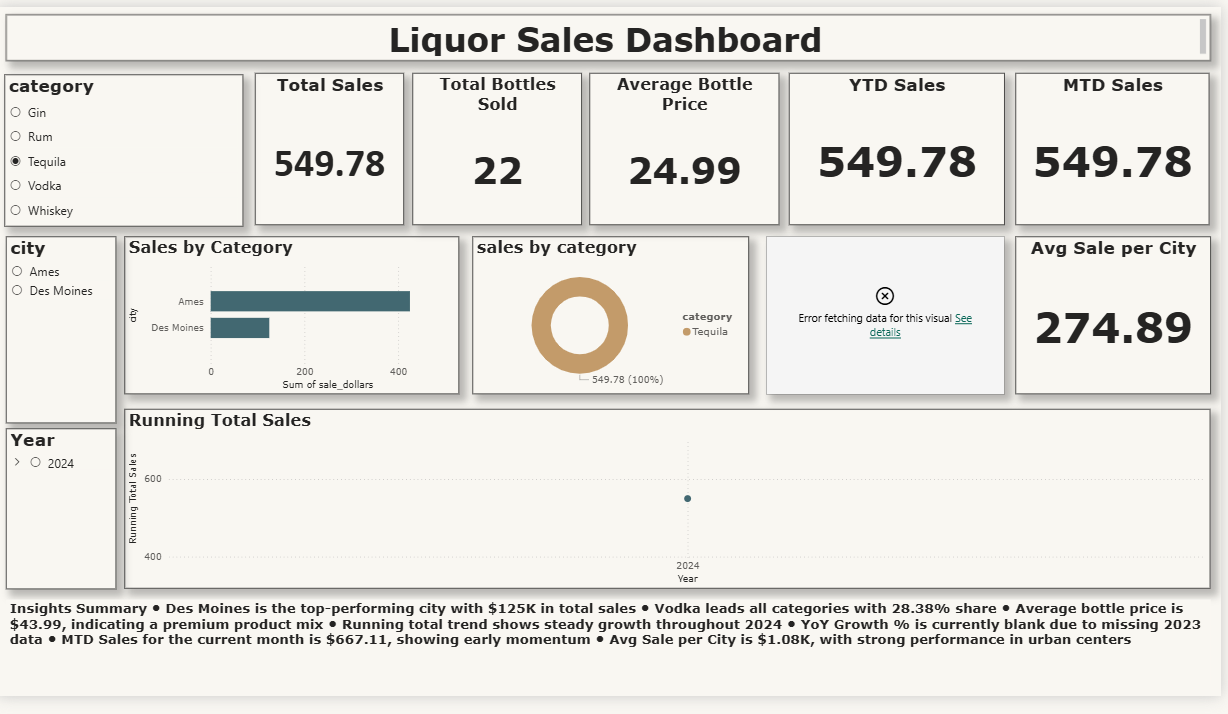

This screenshot's page, from the dashboard's own definition file:
{"tool":"powerbi","page":{"name":"Page 1","canvas":[1600,900],"ordinal":0},"visuals":[{"type":"card","title":"Total Sales","fields":{"Values":["Sum(public liquor_sales.sale_dollars)"]},"box":[336.9,87.1,195,198.7],"z":0},{"type":"clusteredBarChart","title":"Sales by Category","fields":{"Category":["public liquor_sales.city"],"Y":["Sum(public liquor_sales.sale_dollars)"]},"box":[166.6,300.9,437.2,206.3],"z":1000},{"type":"listSlicer","fields":{"Values":["public liquor_sales.category"]},"box":[10.6,87.8,311.9,198.4],"z":2000},{"type":"donutChart","title":"sales by category","fields":{"Category":["public liquor_sales.category"],"Y":["public liquor_sales.Total_sales"]},"box":[620.8,300.9,361.5,206.3],"z":3000},{"type":"lineChart","title":" Running Total Sales","fields":{"Category":["public liquor_sales.date.Variation.Date Hierarchy.Year","public liquor_sales.date.Variation.Date Hierarchy.Quarter","public liquor_sales.date.Variation.Date Hierarchy.Month","public liquor_sales.date.Variation.Date Hierarchy.Day"],"Y":["public liquor_sales.Running Total Sales"]},"box":[166.6,526.2,1419.6,234.7],"z":4000},{"type":"textbox","box":[11.4,9.5,1574.8,60.6],"z":5000},{"type":"card","title":" Total Bottles Sold","fields":{"Values":["public liquor_sales.Total Bottle Sold"]},"box":[543.2,87.1,221.5,198.7],"z":6000},{"type":"card","title":"Average Bottle Price","fields":{"Values":["public liquor_sales.Average Bottle Price"]},"box":[774.1,87.1,248,198.7],"z":7000},{"type":"listSlicer","fields":{"Values":["public liquor_sales.city"]},"box":[11.4,299.1,143.8,244.2],"z":8000},{"type":"listSlicer","fields":{"Values":["public liquor_sales.date.Variation.Date Hierarchy.Year","public liquor_sales.date.Variation.Date Hierarchy.Quarter","public liquor_sales.date.Variation.Date Hierarchy.Month","public liquor_sales.date.Variation.Date Hierarchy.Day"]},"box":[11.4,550.8,143.8,210.1],"z":9000},{"type":"card","title":"YTD Sales","fields":{"Values":["public liquor_sales.YTD Sales"]},"box":[1035.3,87.1,282,198.7],"z":10000},{"type":"card","title":"MTD Sales","fields":{"Values":["public liquor_sales.MTD Sales"]},"box":[1330.6,87.1,253.6,198.7],"z":11000},{"type":"card","title":"YoY Growth %","fields":{"Values":["public liquor_sales.YoY Growth %"]},"box":[1005.1,300.9,310.4,206.3],"z":12000},{"type":"card","title":"Avg Sale per City","fields":{"Values":["public liquor_sales.Avg Sale per City"]},"box":[1330.6,300.9,255.5,206.3],"z":13000},{"type":"textbox","title":"Insights Summary •     \tDes Moines is the top-performing city with $125K in total sales • \tVodka leads all categories with 28.38% share • \tAverage bottle price is $43.99, indicating a premium product ","box":[11.4,774.1,1574.8,109.8],"z":13001}]}

Visuals, with their boxes on the page's 1600x900 design canvas (x1, y1, x2, y2). These are canvas units, not pixel positions in the 1228x714 screenshot, which may show the page scaled, cropped or inside an application window:
"Total Sales" card: bbox(337, 87, 532, 286)
"Sales by Category" clusteredBarChart: bbox(167, 301, 604, 507)
listSlicer - public liquor_sales.category: bbox(11, 88, 322, 286)
"sales by category" donutChart: bbox(621, 301, 982, 507)
" Running Total Sales" lineChart: bbox(167, 526, 1586, 761)
textbox: bbox(11, 10, 1586, 70)
" Total Bottles Sold" card: bbox(543, 87, 765, 286)
"Average Bottle Price" card: bbox(774, 87, 1022, 286)
listSlicer - public liquor_sales.city: bbox(11, 299, 155, 543)
listSlicer - public liquor_sales.date.Variation.Date Hierarchy.Year x public liquor_sales.date.Variation.Date Hierarchy.Quarter: bbox(11, 551, 155, 761)
"YTD Sales" card: bbox(1035, 87, 1317, 286)
"MTD Sales" card: bbox(1331, 87, 1584, 286)
"YoY Growth %" card: bbox(1005, 301, 1316, 507)
"Avg Sale per City" card: bbox(1331, 301, 1586, 507)
"Insights Summary •     	Des Moines is the top-performing city with $125K in total sales • 	Vodka leads all categories with 28.38% share • 	Average bottle price is $43.99, indicating a premium product " textbox: bbox(11, 774, 1586, 884)
